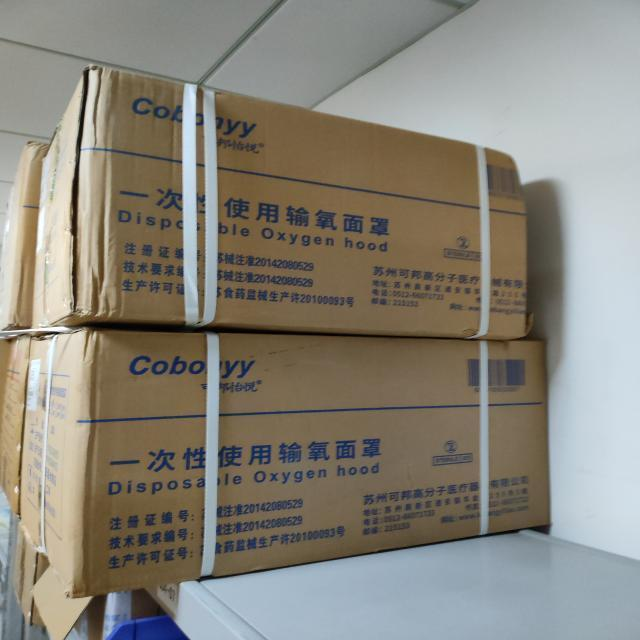box: (19, 328, 548, 599), (33, 64, 534, 345), (0, 139, 55, 333)
